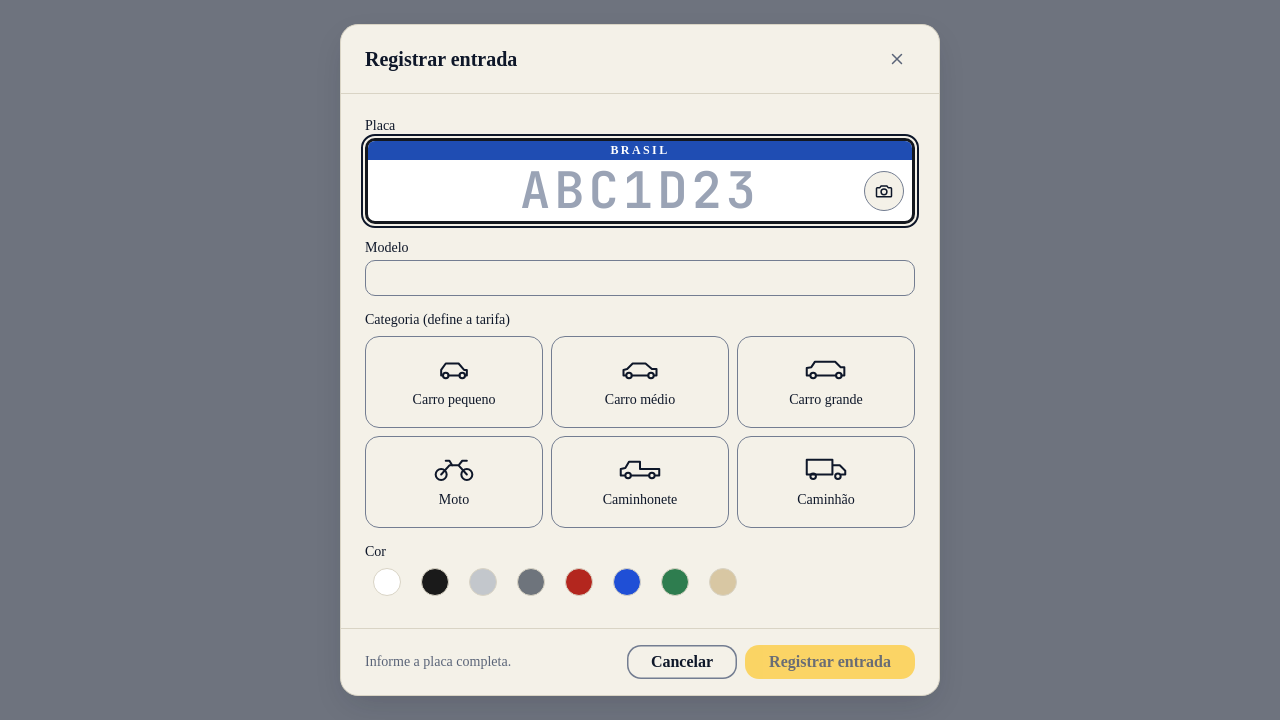
Test: EntradaVeiculoModal › depois da placa, o rodapé lista o que falta e vai encurtando
The width and height of the screenshot is (1280, 720).
In the field labelled "Placa": (640, 191) [368,160,912,221], type "abc1d23"
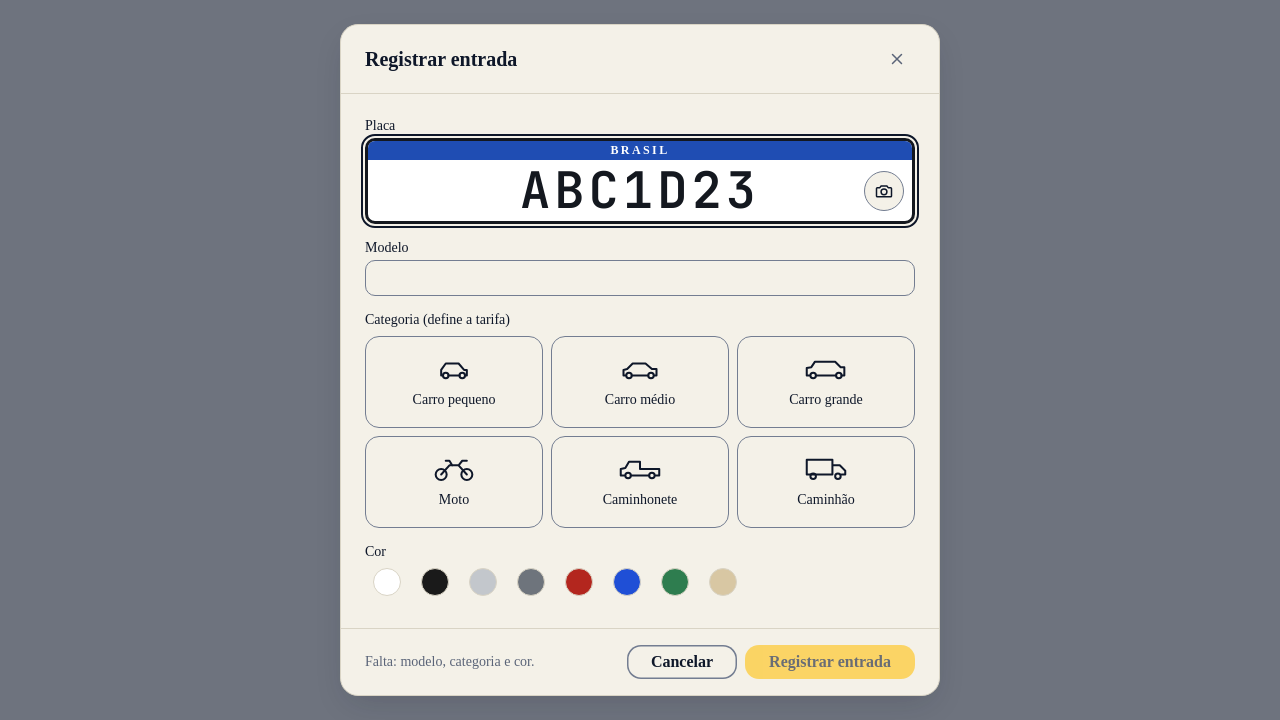
Now the text "Falta: modelo, categoria e cor." is shown, box [365,654,534,670]
In the dropdown labelled "Modelo": (640, 278) [365,260,915,296], type "Onix"
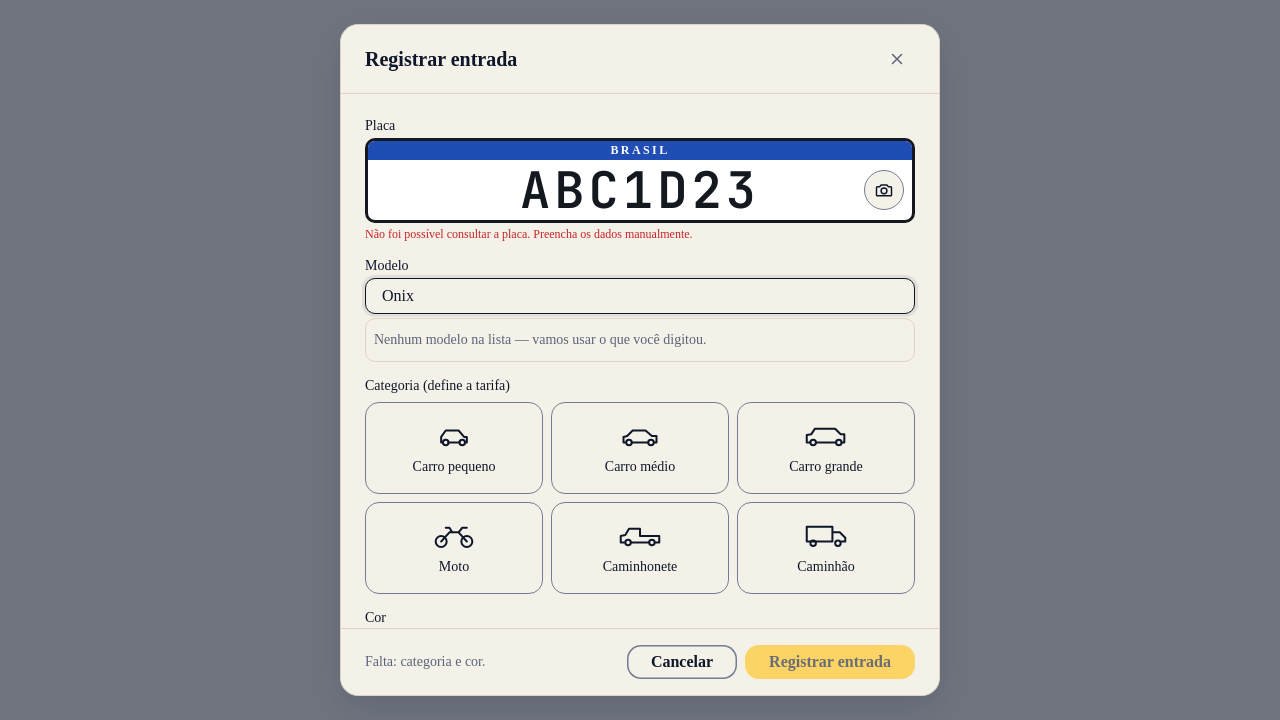
Now the text "Falta: categoria e cor." is shown, box [365,654,486,670]
Click the 1st radio button labelled "Carro pequeno": (454, 448) [365,402,543,494]
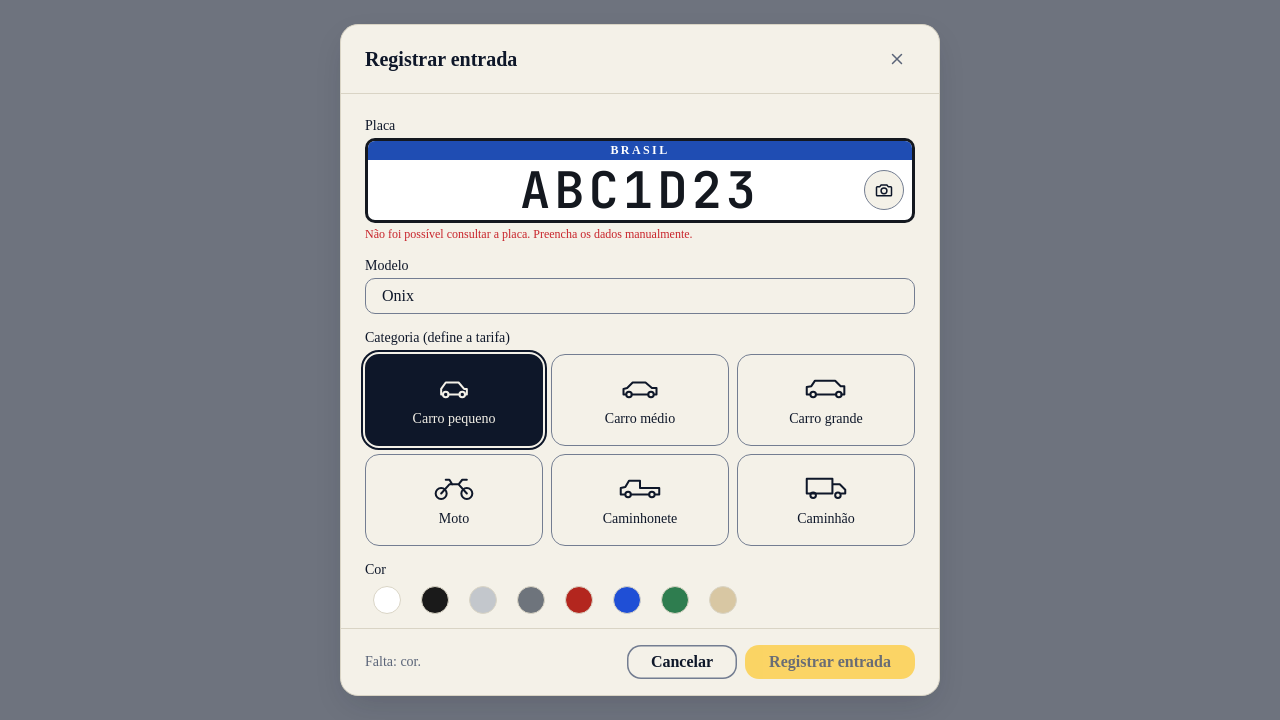
Now the text "Falta: cor." is shown, box [365,654,421,670]
Click the radio button named "Azul": (627, 600) [613,586,641,614]
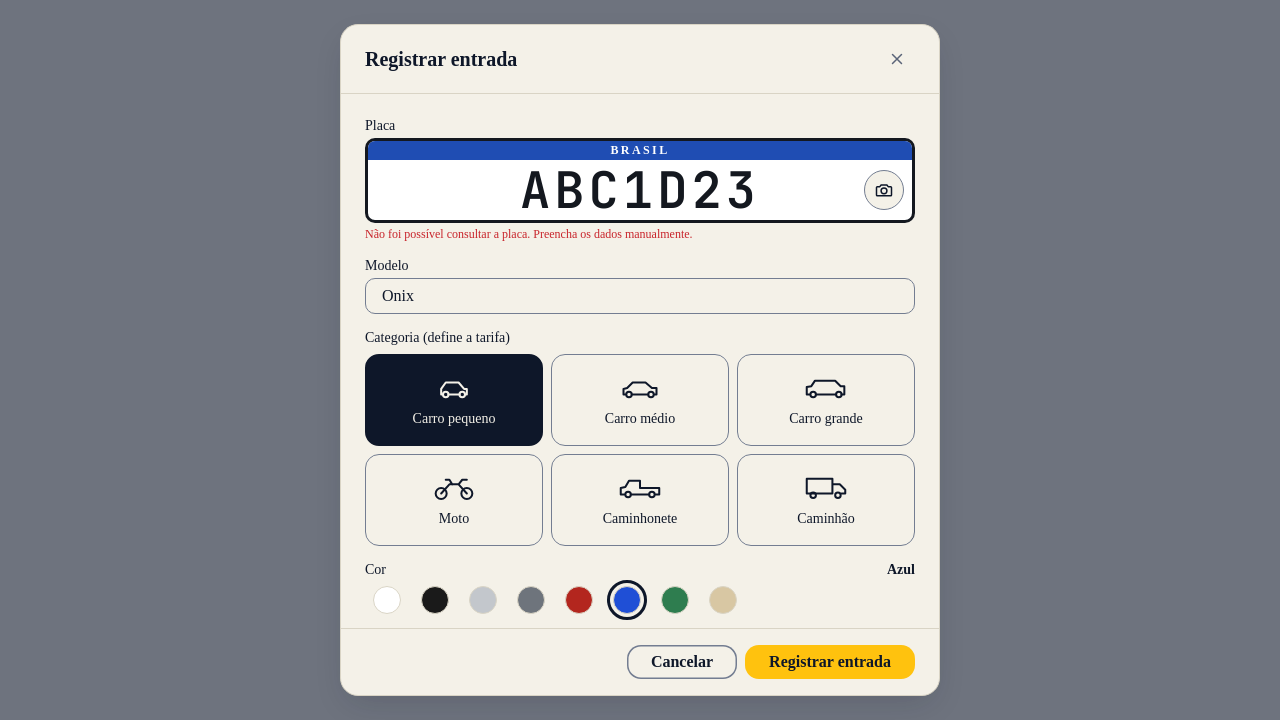
Now the text "Falta:" is gone
Now the button "Registrar entrada" is enabled, box [745,645,915,679]
